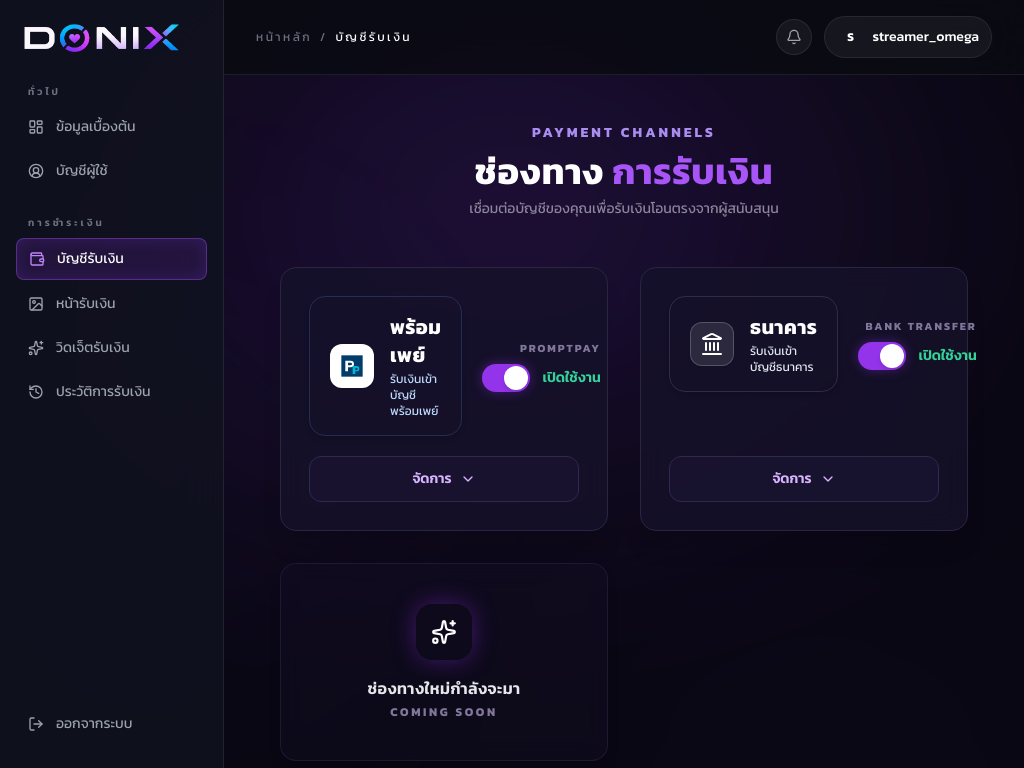
Test: PaymentPage Integration › handles error when saving PromptPay fails
Expected: the heading "พร้อมเพย์" is shown, [390,313,442,369]
Click the button "จัดการ" below "รับเงินเข้าบัญชีพร้อมเพย์". click: [444, 479]
box: [309,456,579,502]
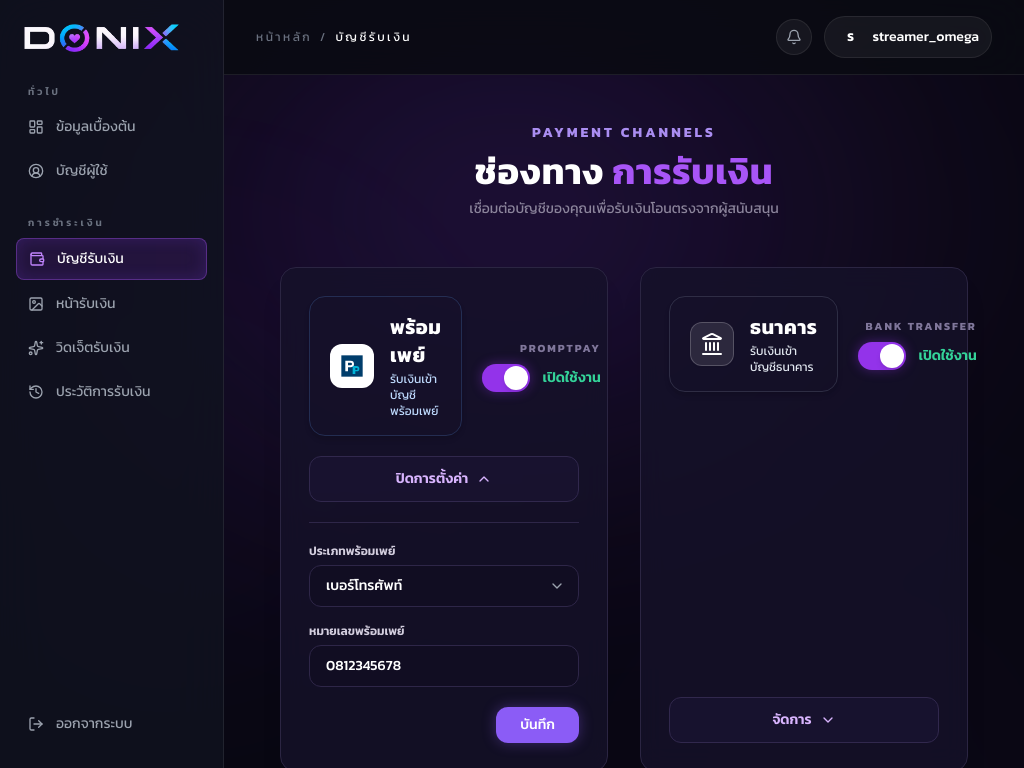
Click the button "บันทึก". click: [538, 725]
box: [496,707,579,743]
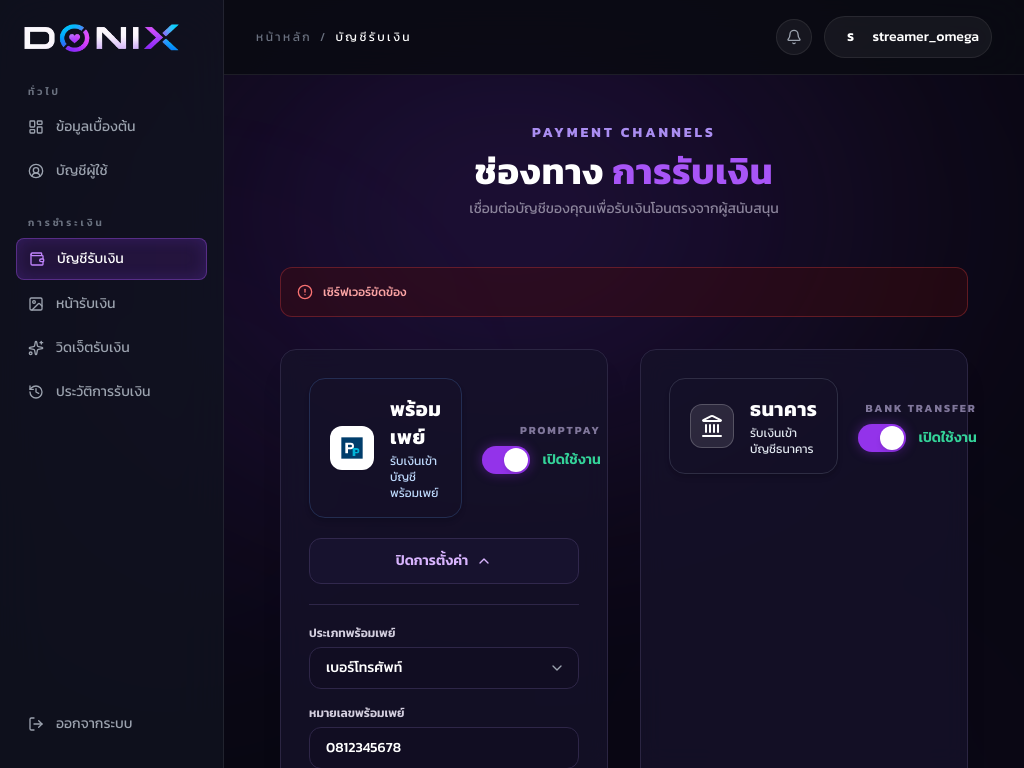
Now the text "เซิร์ฟเวอร์ขัดข้อง" is shown, box [323,284,406,300]
